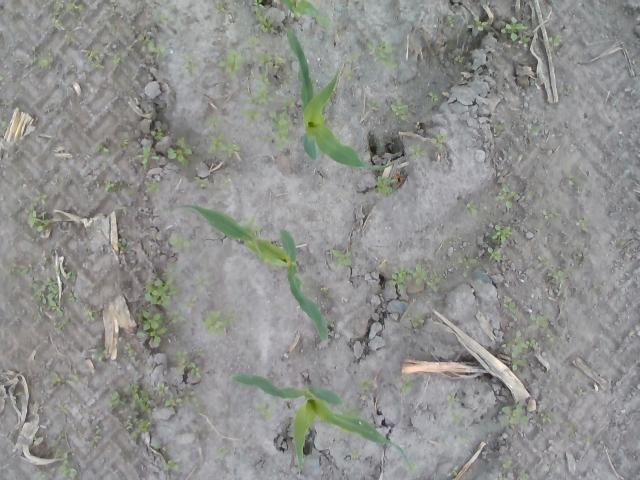Maize: (174, 203, 330, 343), (228, 370, 414, 474), (285, 29, 396, 172), (276, 0, 332, 30)
Weeds: (134, 274, 193, 344), (32, 270, 78, 322), (110, 380, 154, 433), (254, 47, 286, 108), (392, 262, 448, 294), (502, 329, 540, 372), (268, 95, 296, 149), (48, 431, 80, 478), (200, 304, 241, 336), (484, 221, 512, 263), (499, 16, 531, 52), (367, 39, 402, 71), (24, 191, 50, 232), (175, 348, 208, 378), (494, 182, 529, 210), (168, 128, 192, 168), (222, 46, 247, 82), (388, 94, 412, 131), (208, 133, 242, 158), (136, 31, 168, 57), (499, 401, 530, 427), (152, 382, 182, 408), (252, 0, 274, 34), (178, 390, 204, 416), (82, 46, 105, 72), (49, 368, 82, 386), (95, 176, 128, 194), (341, 52, 360, 82), (31, 46, 54, 70), (458, 254, 480, 278), (142, 142, 160, 170), (254, 398, 279, 418), (373, 175, 398, 195), (50, 0, 66, 31), (180, 50, 196, 80), (527, 311, 554, 328), (466, 14, 491, 32), (331, 248, 353, 268), (9, 258, 33, 276), (62, 31, 82, 51), (398, 374, 416, 396), (65, 0, 88, 16), (141, 175, 161, 193), (426, 87, 444, 107), (353, 376, 378, 390), (160, 458, 185, 472), (406, 311, 424, 330), (189, 273, 209, 290), (365, 96, 386, 112), (548, 32, 566, 50), (408, 142, 426, 160), (462, 202, 482, 218), (540, 410, 560, 426), (95, 140, 112, 158), (191, 174, 210, 190), (575, 216, 593, 232), (239, 108, 261, 121), (204, 113, 223, 128), (501, 300, 521, 314), (53, 319, 73, 333), (168, 237, 191, 249), (343, 398, 359, 415), (244, 214, 260, 231), (88, 430, 103, 448), (548, 266, 564, 282), (451, 409, 466, 426), (499, 454, 513, 472), (84, 304, 98, 322), (112, 52, 130, 66), (124, 342, 137, 360), (246, 34, 262, 48), (432, 130, 448, 144), (116, 236, 129, 253), (542, 208, 560, 220), (90, 350, 108, 362), (447, 392, 462, 406), (150, 125, 164, 140), (57, 400, 70, 416), (529, 124, 543, 138), (118, 134, 130, 150), (167, 263, 184, 274), (518, 467, 531, 480), (566, 175, 578, 189), (446, 14, 459, 26), (33, 467, 46, 479), (215, 1, 227, 14), (542, 254, 552, 268), (454, 55, 466, 66), (463, 30, 474, 42), (545, 332, 556, 344), (158, 14, 169, 26), (495, 122, 513, 129), (407, 464, 417, 476), (350, 450, 362, 460), (0, 115, 8, 129), (216, 447, 226, 458), (0, 70, 9, 82), (617, 238, 627, 248), (576, 388, 588, 396), (320, 288, 330, 296)
